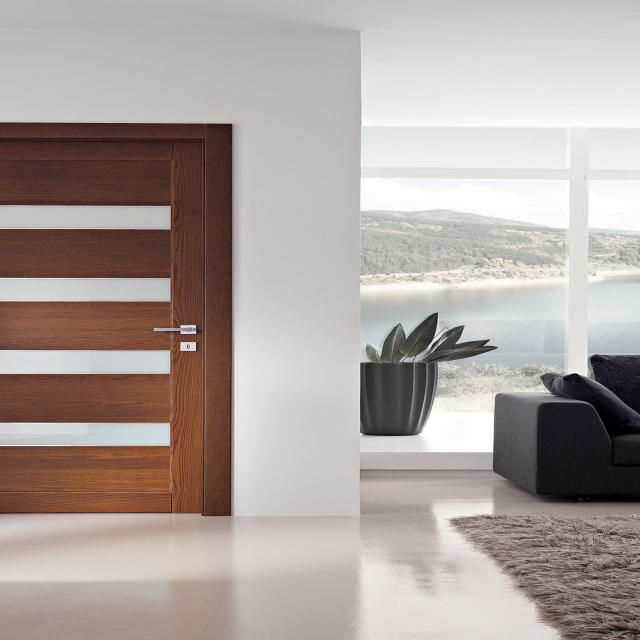door: (1, 122, 232, 514)
